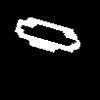chain: (15, 18, 79, 51)
